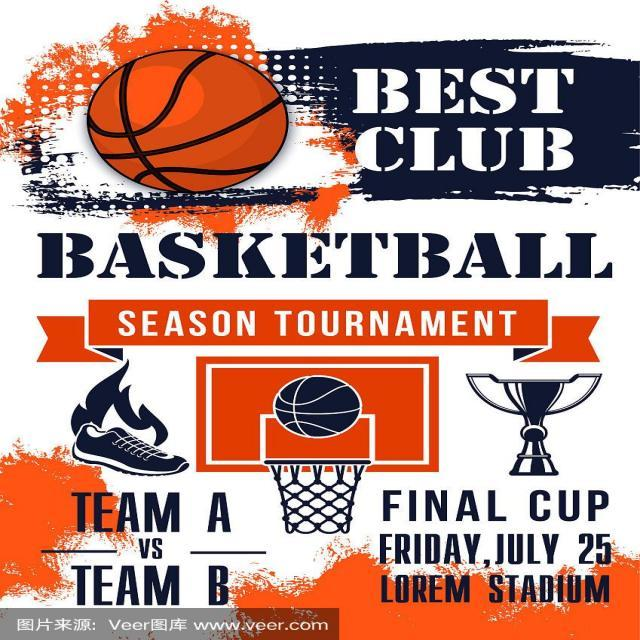rim: (88, 49, 281, 194), (269, 375, 360, 438)
